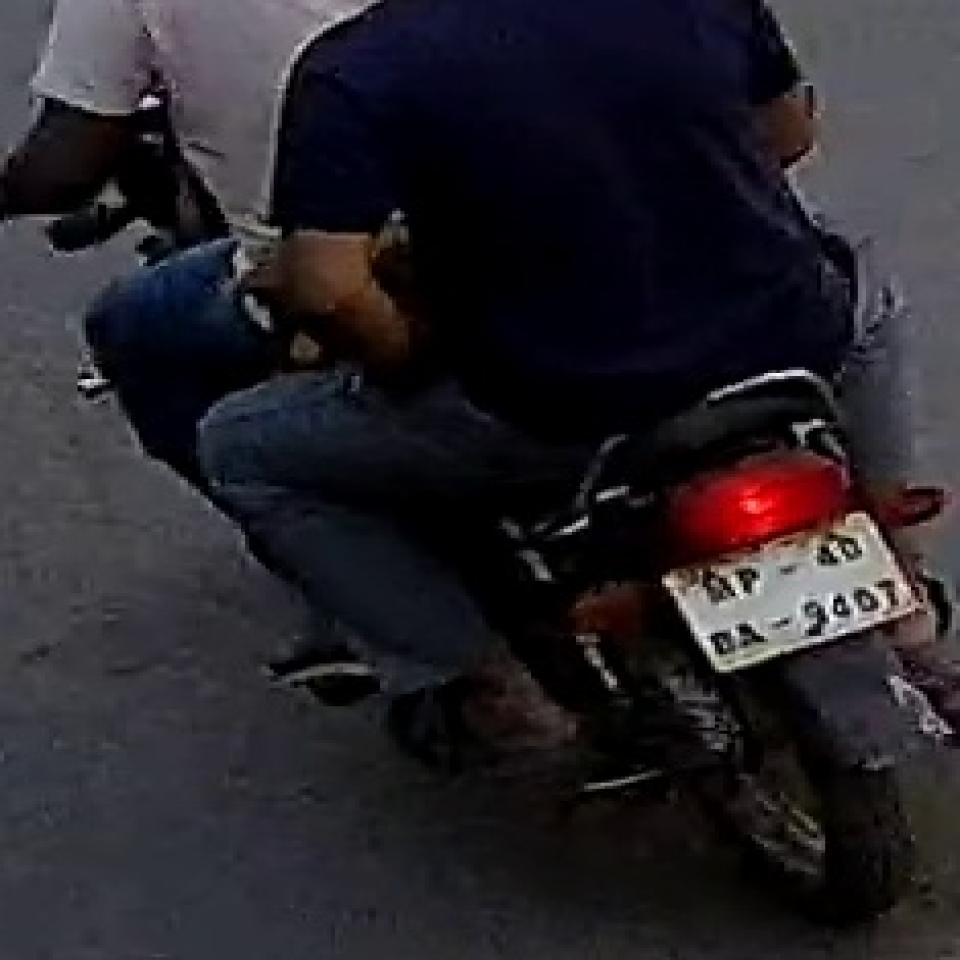tail_light: (662, 454, 850, 555)
